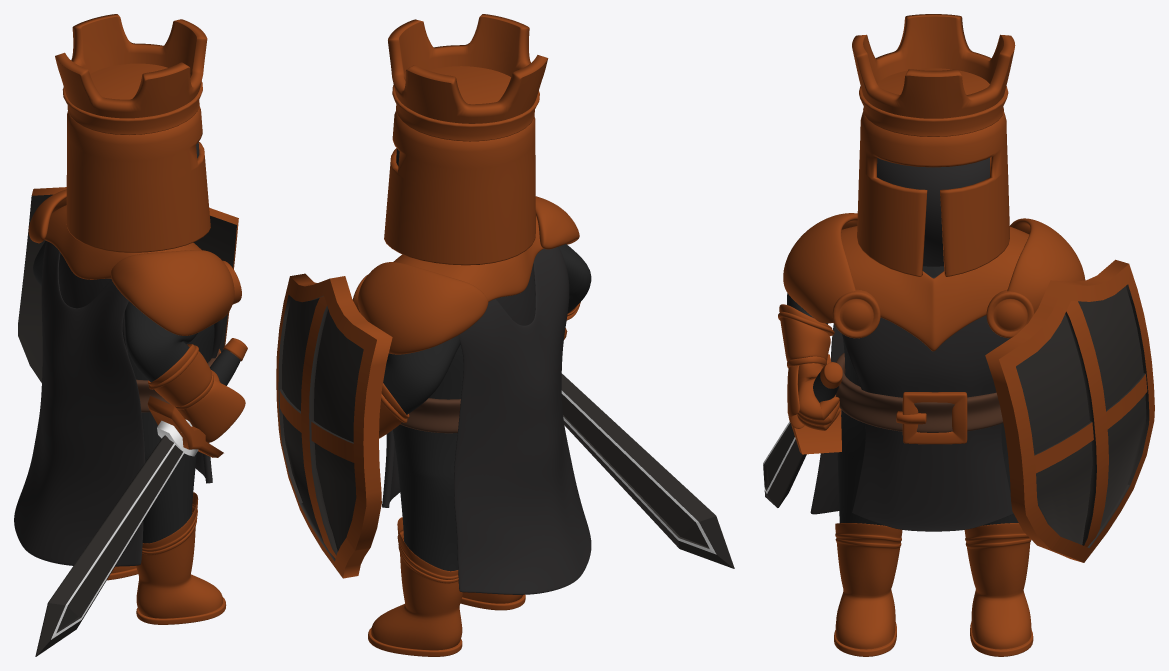
File: swordShield-transformed.glb
3 renders of one model, left to right at view 1: azimuth 30°, elevation 25°; view 2: azimuth 150°, elevation 25°; view 3: azimuth 270°, elevation 25°, orthographic. The views are drawn at different scales.
Parts seen in each view (by area): view 1: ss_cape, helmet_outer, long_sword.002, crown, chestplate_shoulder, body, boots, glove, shield1.002, crown_belt, chestplate, tabard (+1 smaller); view 2: ss_cape, shield1.002, helmet_outer, body, crown, chestplate_shoulder, long_sword.002, boots, crown_belt, chestplate, tabard, belt (+1 smaller); view 3: shield1.002, tabard, helmet_outer, boots, crown, chestplate, chestplate_shoulder, body, belt, long_sword.002, helmet_inner, crown_belt (+4 smaller).
Part boxes in pixels (x1,y1,x2,y2): ss_cape: [14, 241, 145, 566]; helmet_outer: [66, 106, 210, 252]; long_sword.002: [35, 338, 247, 656]; crown: [55, 14, 207, 118]; chestplate_shoulder: [28, 189, 234, 335]; body: [33, 241, 220, 543]; boots: [107, 492, 226, 624]; glove: [148, 344, 245, 442]; shield1.002: [18, 187, 238, 382]; crown_belt: [62, 63, 202, 134]; chestplate: [44, 205, 201, 279]; tabard: [58, 253, 223, 483]; ss_cape: [454, 246, 591, 594]; shield1.002: [276, 273, 392, 578]; helmet_outer: [384, 111, 535, 265]; body: [383, 244, 591, 571]; crown: [388, 14, 548, 123]; chestplate_shoulder: [357, 196, 579, 354]; long_sword.002: [561, 328, 734, 568]; boots: [368, 517, 525, 656]; crown_belt: [392, 66, 539, 141]; chestplate: [393, 216, 543, 301]; tabard: [382, 263, 535, 507]; belt: [400, 398, 460, 433]; shield1.002: [985, 259, 1154, 562]; tabard: [842, 276, 1013, 531]; helmet_outer: [857, 111, 1009, 276]; boots: [834, 523, 1033, 656]; crown: [852, 14, 1015, 118]; chestplate: [841, 226, 1029, 351]; chestplate_shoulder: [783, 213, 1085, 323]; body: [787, 266, 1018, 525]; belt: [835, 353, 1003, 432]; long_sword.002: [763, 354, 842, 507]; helmet_inner: [877, 158, 989, 266]; crown_belt: [859, 68, 1008, 136].
Bounding box in the file's own units: 0.5163 × 0.86 × 0.5215.
